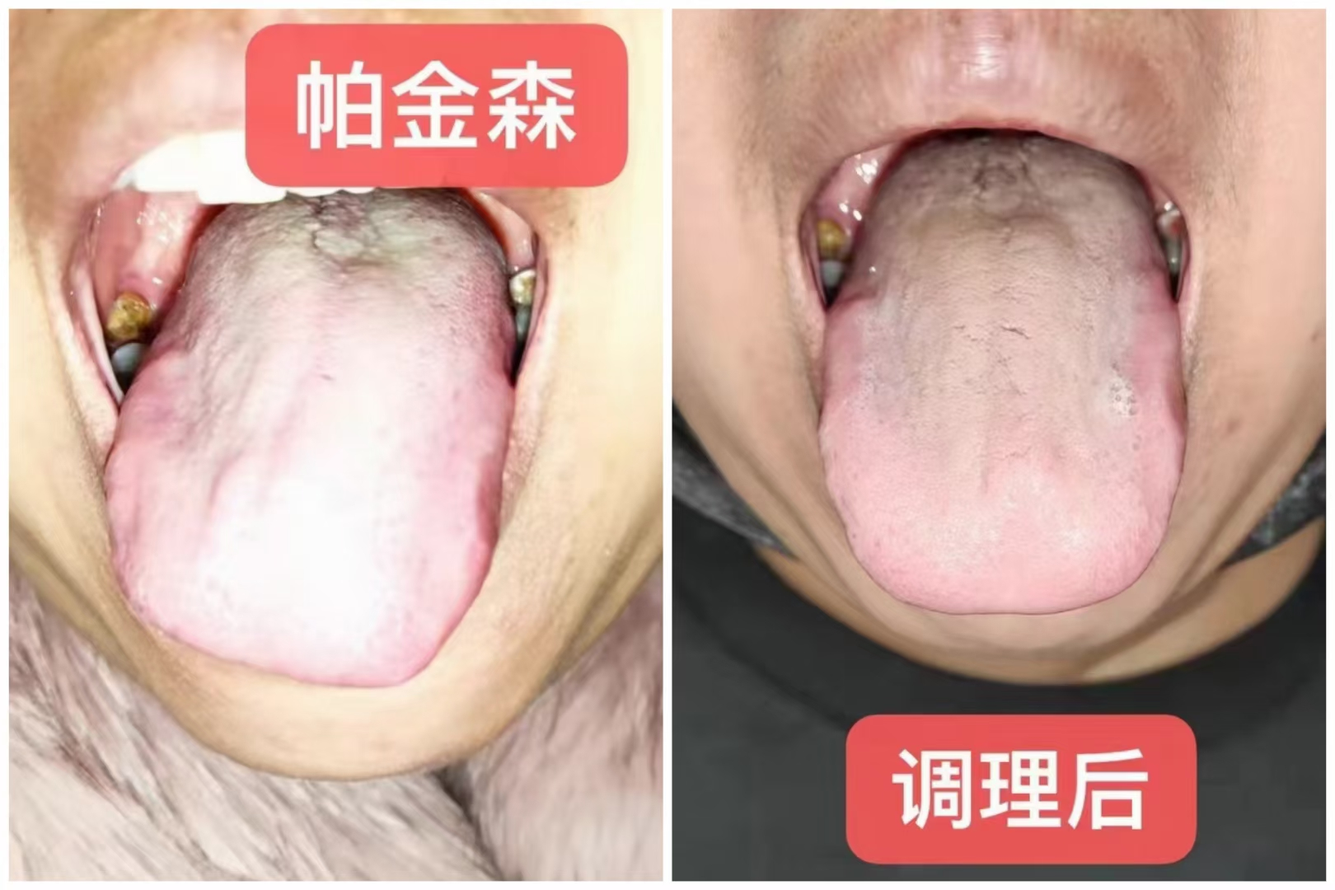baitaishe: (101, 188, 515, 686), (820, 126, 1187, 616)
